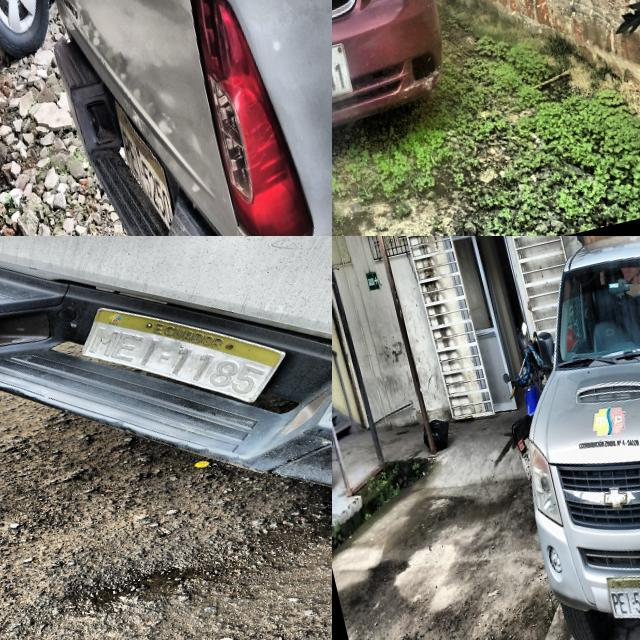license_plate: (76, 306, 292, 406), (112, 94, 173, 229), (332, 38, 355, 118), (604, 573, 640, 621)
